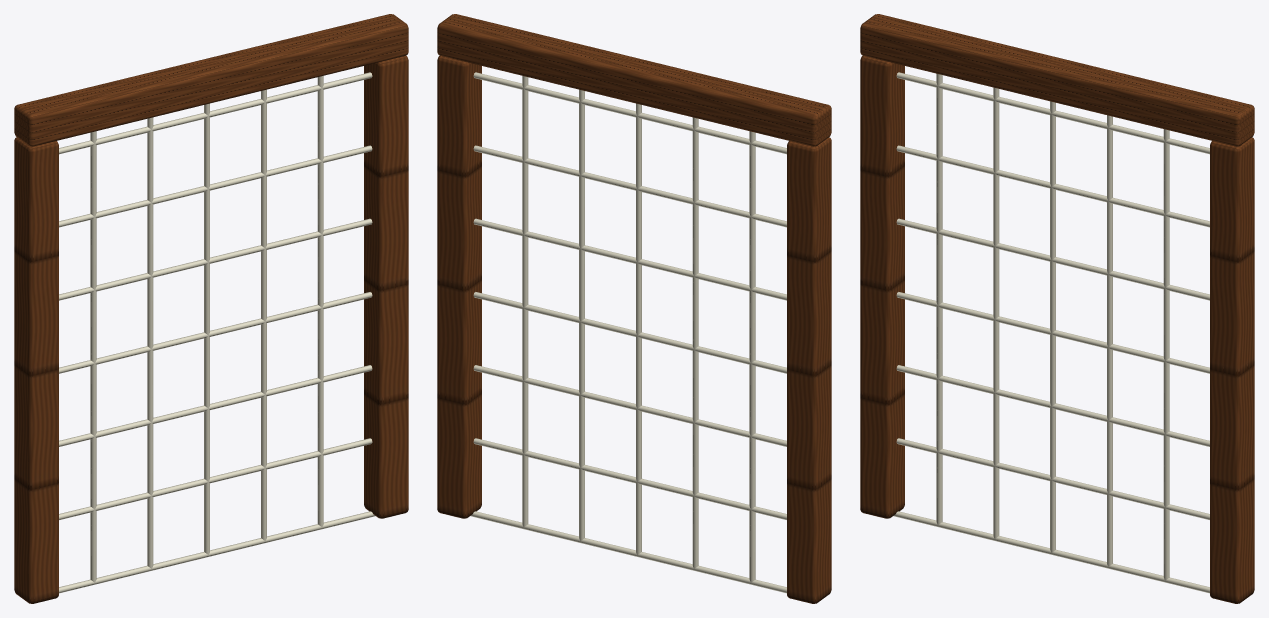
The model's file is primitive-crafting-workshop-cord-net-panel-8859960b__21556.glb.
The picture shows the model from 3 angles, left to right: view 1: azimuth 30°, elevation 25°; view 2: azimuth 150°, elevation 25°; view 3: azimuth 330°, elevation 25°; orthographic projection.
Visible parts, largest first — view 1: cord-net-panel; view 2: cord-net-panel; view 3: cord-net-panel.
Part boxes in pixels (x1,y1,x2,y2): cord-net-panel: (14,14,408,603); cord-net-panel: (437,14,831,603); cord-net-panel: (860,14,1254,603).
Size of the model in its own units: 0.87 by 1.07 by 0.07.
Materials: 2 (1 with a texture image).
